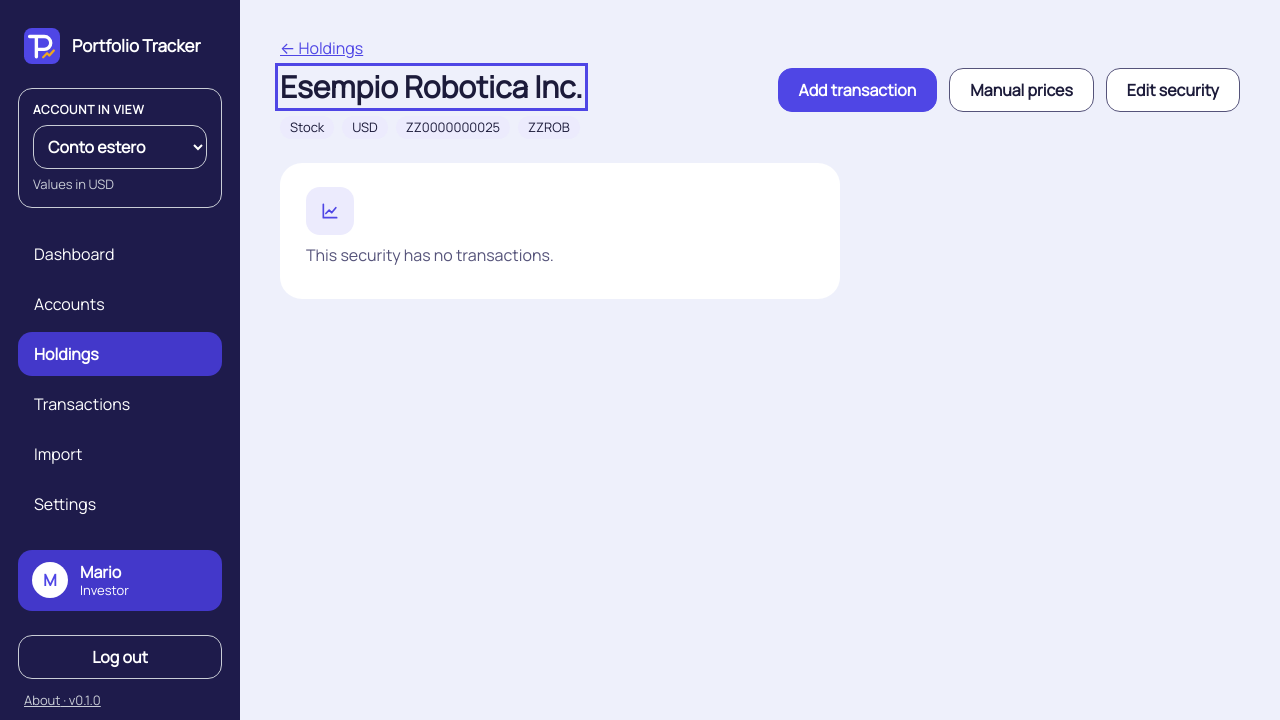
Test case: deleting a security (D-150) › deletes it from the edit dialog, saying how many manual prices go with it
Click the button "Edit security". click: (1173,90)
box: [1106,68,1240,112]
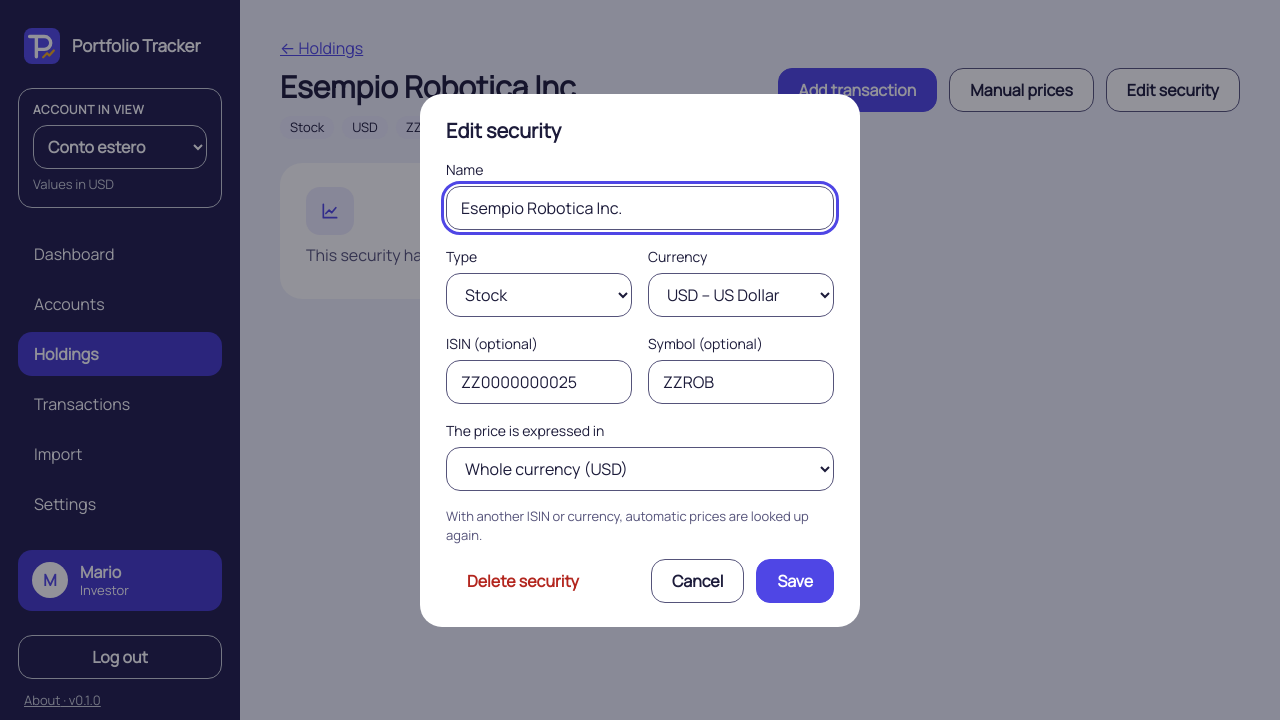
Click the button "Delete security". click: (523,580)
box: [446,558,600,602]
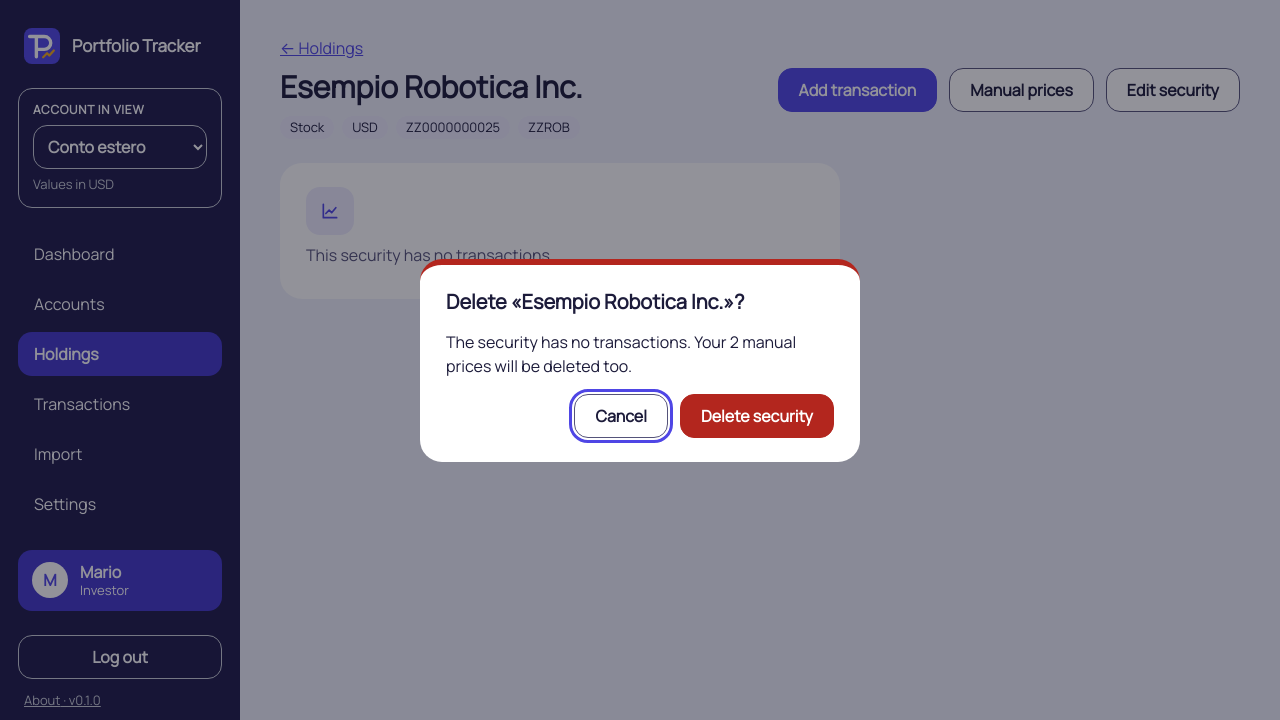
Check: the dialog "Delete «Esempio Robotica Inc.»?" shows "The security has no transactions. Your 2 manual prices will be deleted too.", box [446,330,796,376]
Click the button "Delete security". click: (757,416)
box: [680,394,834,438]
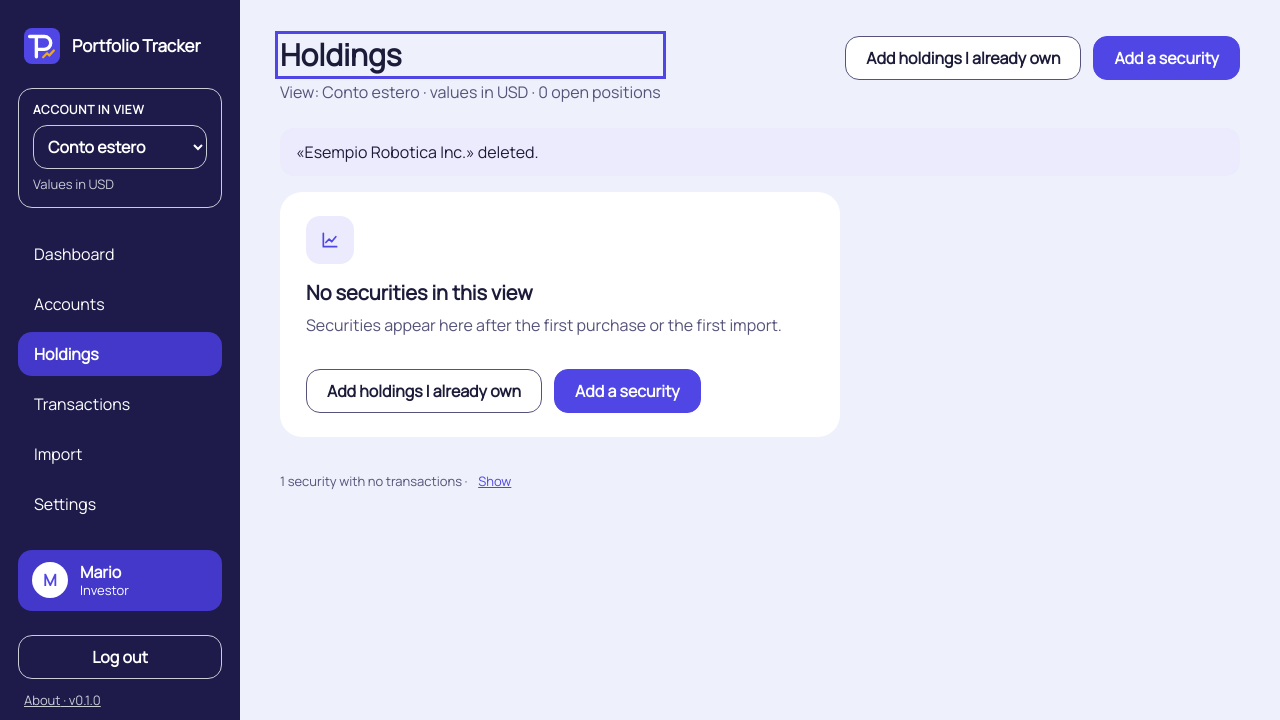
Check: the text "«Esempio Robotica Inc.» deleted." is shown, box [296,140,539,162]
